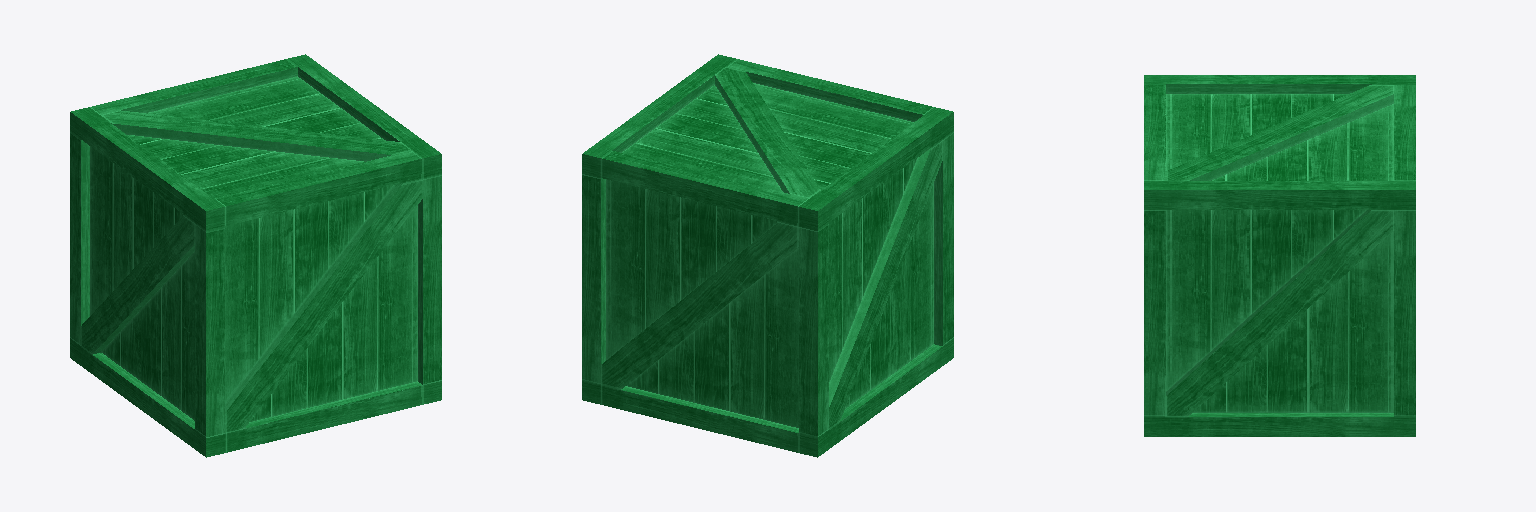
The picture shows the model from 3 angles: view 1: azimuth 30°, elevation 25°; view 2: azimuth 150°, elevation 25°; view 3: azimuth 270°, elevation 25°; orthographic projection.
Parts seen in each view (by area): view 1: crate; view 2: crate; view 3: crate.
Part boxes in pixels (x1,y1,x2,y2): crate: (70, 54, 441, 457); crate: (582, 54, 953, 457); crate: (1144, 75, 1415, 436).
Size of the model in its own units: 10 by 10 by 10.
Materials: 1 (1 with a texture image).